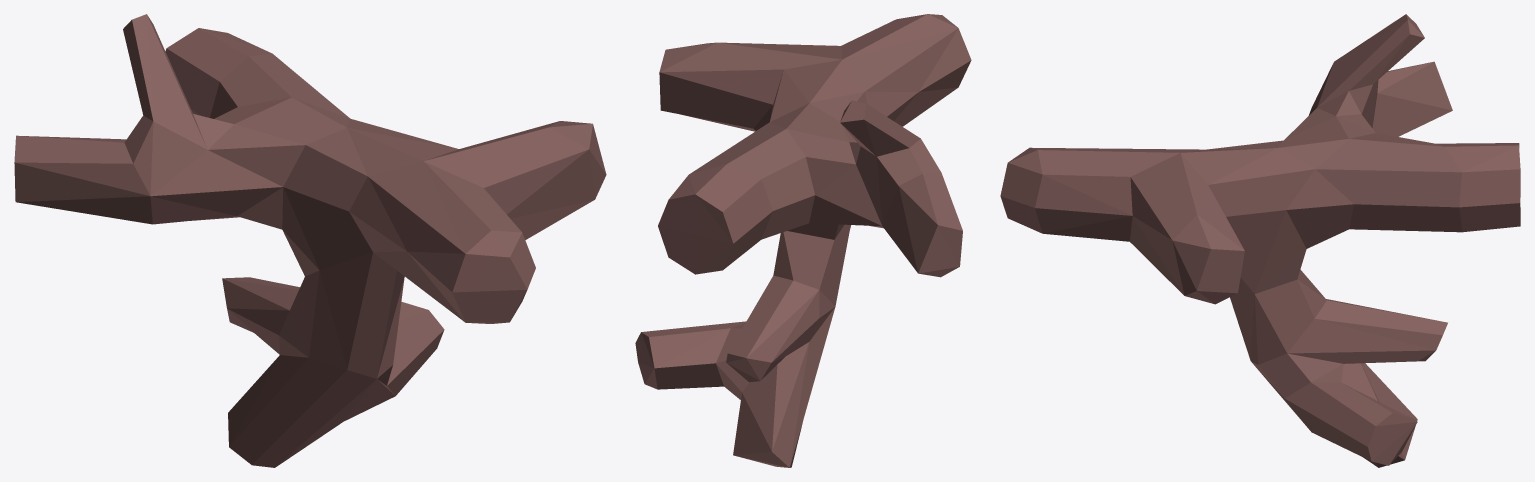
The model's file is plant1.fbx.
3 views of the same model, side by side, from view 1: azimuth 30°, elevation 25°; view 2: azimuth 150°, elevation 25°; view 3: azimuth 270°, elevation 25° (orthographic). The views are drawn at different scales.
Parts seen in each view (by area): view 1: plant1; view 2: plant1; view 3: plant1.
Part boxes in pixels (bbox=[...]): plant1: bbox=[14, 14, 606, 467]; plant1: bbox=[635, 14, 971, 467]; plant1: bbox=[1000, 14, 1520, 467].
Size of the model in its own units: 11084 by 9370 by 9833.
